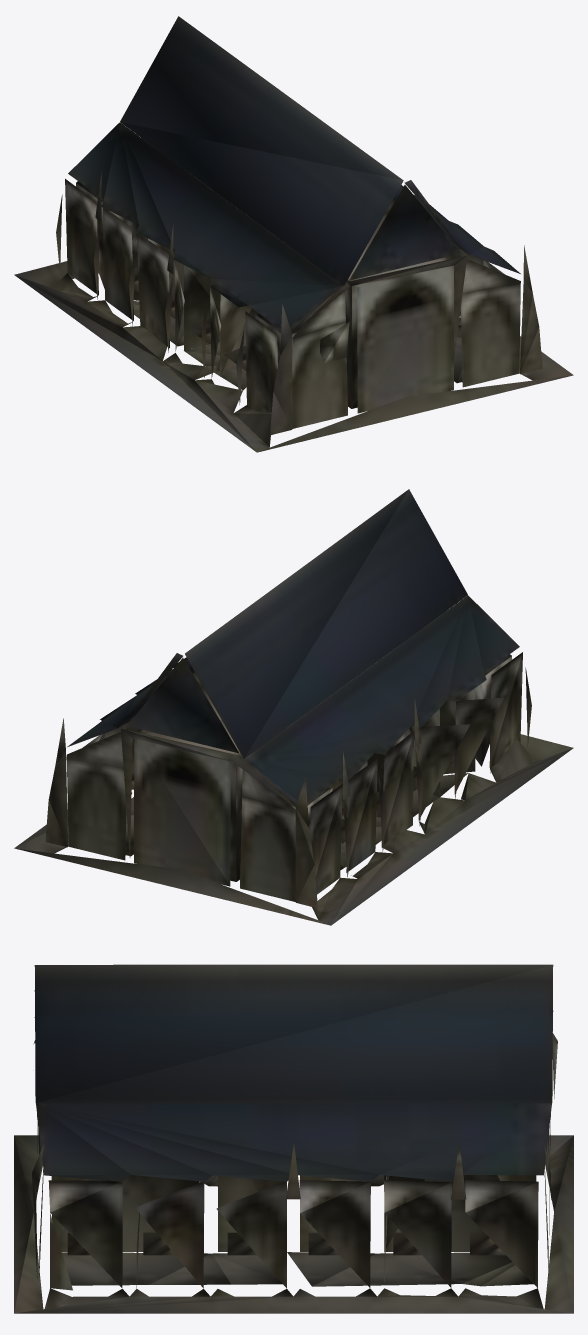
File: market.glb
The picture shows the model from 3 angles, top to bottom: view 1: azimuth 30°, elevation 25°; view 2: azimuth 150°, elevation 25°; view 3: azimuth 270°, elevation 25°; orthographic projection. The views are drawn at different scales.
Visible parts, largest first — view 1: tripo_node_68c8393b-3dcb-4258-90cb-ec0b9; view 2: tripo_node_68c8393b-3dcb-4258-90cb-ec0b9; view 3: tripo_node_68c8393b-3dcb-4258-90cb-ec0b9.
Part boxes in pixels (x1,y1,x2,y2): tripo_node_68c8393b-3dcb-4258-90cb-ec0b9: (14,16,573,452); tripo_node_68c8393b-3dcb-4258-90cb-ec0b9: (14,489,573,925); tripo_node_68c8393b-3dcb-4258-90cb-ec0b9: (14,964,573,1313).
Bounding box in the file's own units: 27.59 × 19.83 × 36.62.
1 material, 1 textured.
